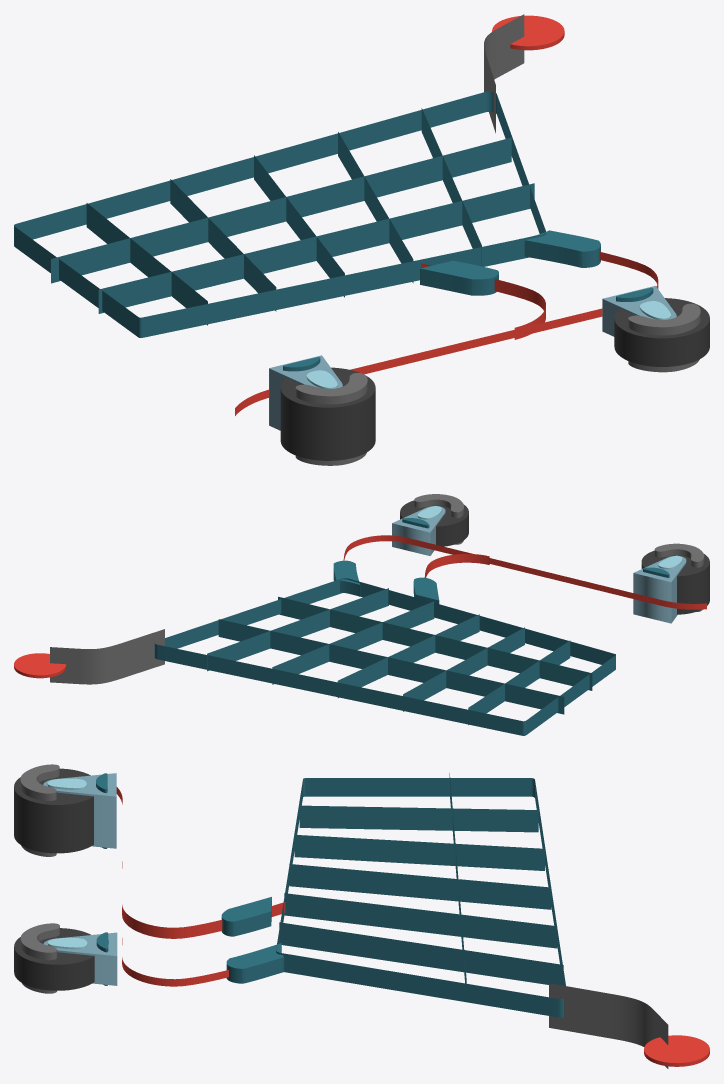
The model's file is emoji_u1f6d2.glb.
The picture shows the model from 3 angles, top to bottom: view 1: azimuth 30°, elevation 25°; view 2: azimuth 150°, elevation 25°; view 3: azimuth 270°, elevation 25°; orthographic projection. The views are drawn at different scales.
Visible parts, largest first — view 1: emoji_u1f6d2; view 2: emoji_u1f6d2; view 3: emoji_u1f6d2.
Part boxes in pixels (x1,y1,x2,y2): emoji_u1f6d2: (14, 14, 709, 465); emoji_u1f6d2: (14, 494, 709, 735); emoji_u1f6d2: (14, 764, 709, 1068).
Size of the model in its own units: 0.0328 by 0.0034 by 0.0339.
